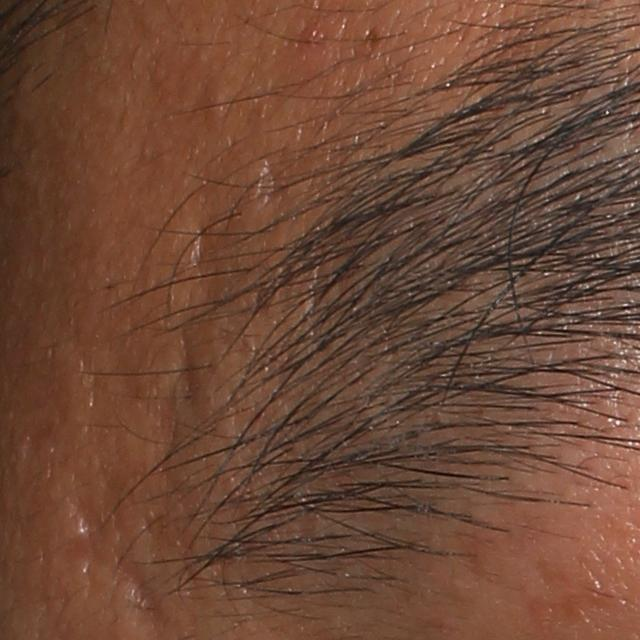comedo: (208, 83, 231, 119)
